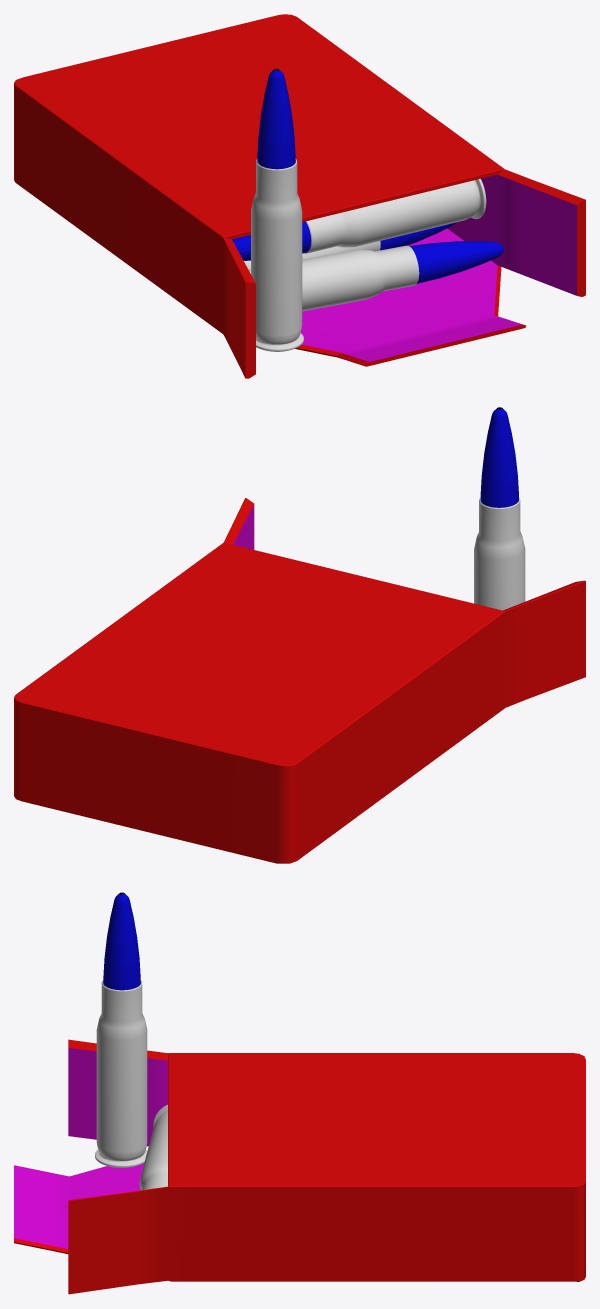
The model's file is Rifle_ammo_01.fbx.
3 renders of one model, top to bottom at view 1: azimuth 30°, elevation 25°; view 2: azimuth 150°, elevation 25°; view 3: azimuth 270°, elevation 25°, orthographic. The views are drawn at different scales.
Visible parts, largest first — view 1: Ammo_Shotgun_Box1, Rifle_Casing (×4), Rifle_Bullet (×4); view 2: Ammo_Shotgun_Box1, Rifle_Casing, Rifle_Bullet; view 3: Ammo_Shotgun_Box1, Rifle_Casing (×2), Rifle_Bullet.
Boxes of the visible parts, x1,y1,x2,y2 form: Ammo_Shotgun_Box1: (14, 14, 585, 378); Rifle_Casing (×4): (244, 159, 486, 351); Rifle_Bullet (×4): (232, 68, 504, 283); Ammo_Shotgun_Box1: (14, 498, 585, 863); Rifle_Casing: (474, 497, 525, 610); Rifle_Bullet: (480, 407, 518, 507); Ammo_Shotgun_Box1: (14, 1039, 585, 1294); Rifle_Casing (×2): (95, 980, 167, 1190); Rifle_Bullet: (103, 892, 140, 990).
Size of the model in its own units: 2.08 by 1.62 by 3.11.
